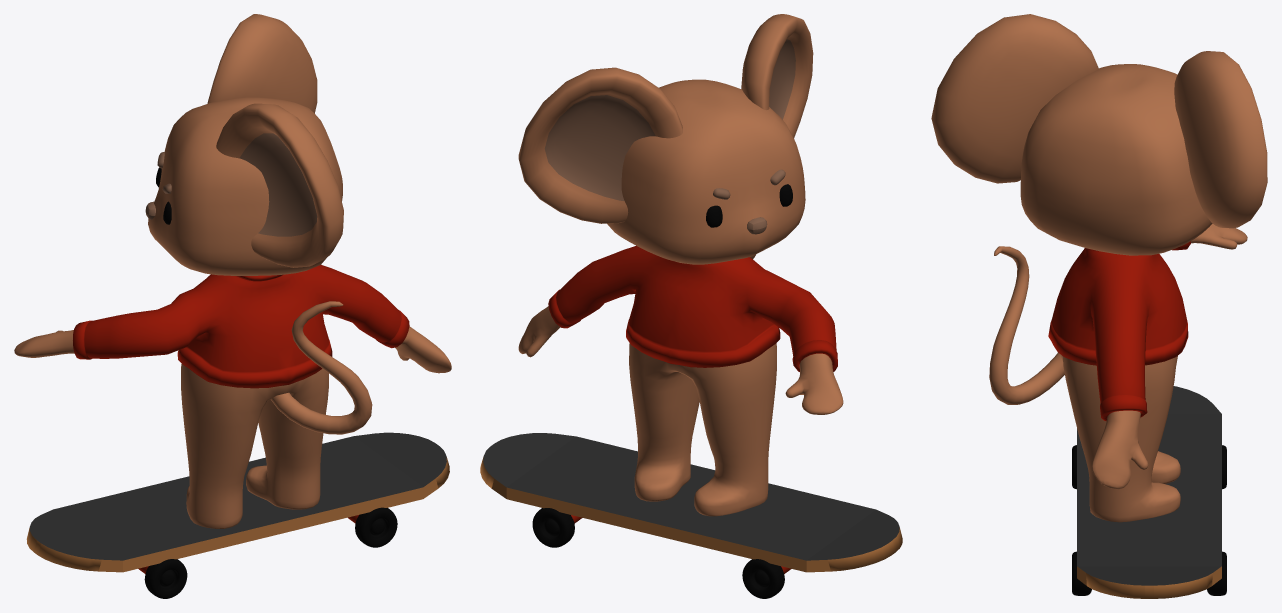
Rendered from snackman_red.glb.
3 views of the same model, side by side, from view 1: azimuth 30°, elevation 25°; view 2: azimuth 150°, elevation 25°; view 3: azimuth 270°, elevation 25° (orthographic). The views are drawn at different scales.
Visible parts, largest first — view 1: nose, skateboard_bord.002, skateboard_wheels.002; view 2: nose, skateboard_bord.002, skateboard_wheels.002; view 3: nose, skateboard_bord.002, skateboard_wheels.002.
Boxes of the visible parts, x1,y1,x2,y2 form: nose: (14, 14, 451, 528); skateboard_bord.002: (26, 432, 449, 572); skateboard_wheels.002: (144, 507, 397, 598); nose: (518, 14, 843, 516); skateboard_bord.002: (480, 433, 902, 572); skateboard_wheels.002: (532, 508, 784, 598); nose: (931, 14, 1267, 522); skateboard_bord.002: (1077, 386, 1221, 598); skateboard_wheels.002: (1072, 445, 1226, 595).
Bounding box in the file's own units: 6.69 × 7.75 × 4.63.
